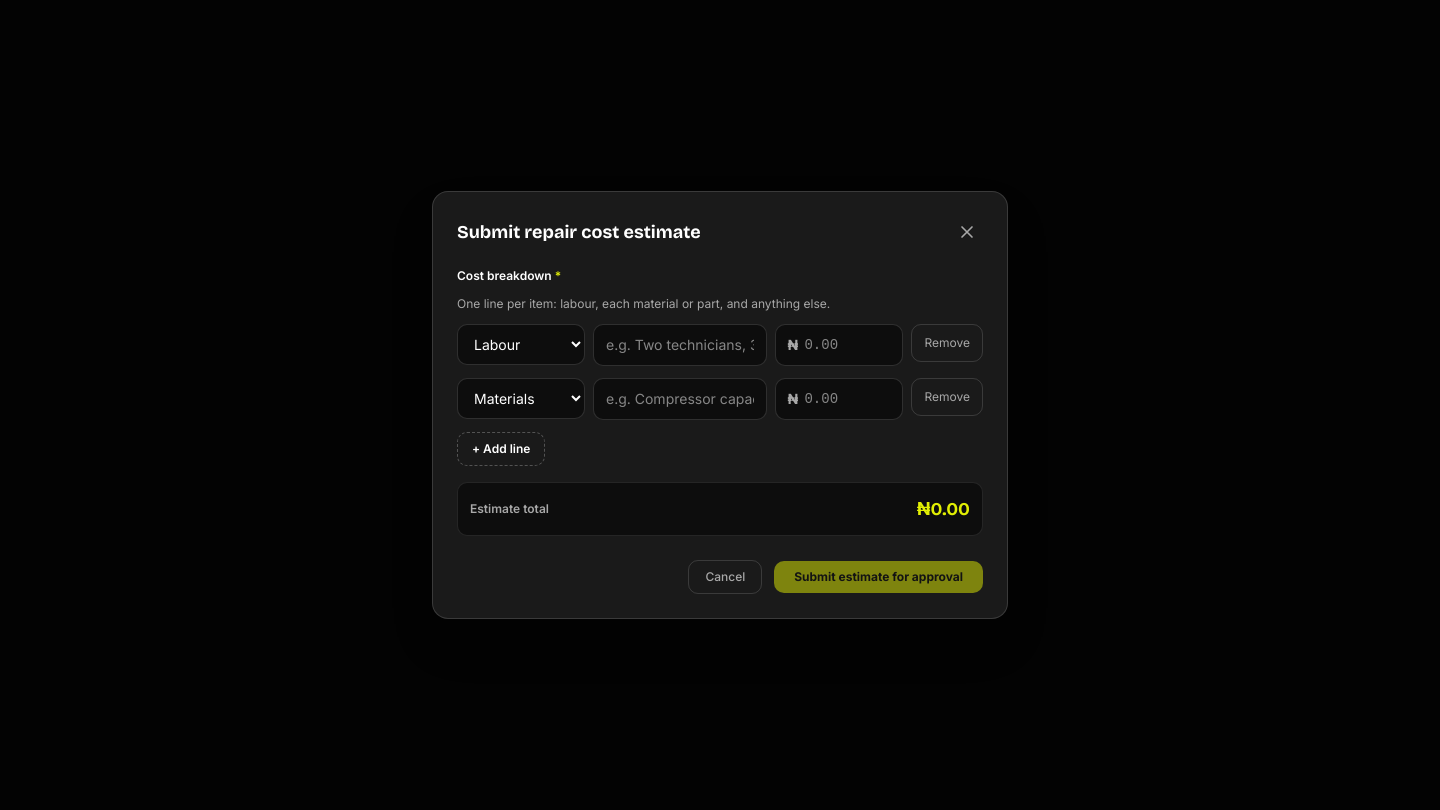
SubmitEstimateModal cost breakdown › lets lines be removed but always keeps one
Click the button with aria-label "Remove line 2".
click(947, 397)  # box [912,378,983,416]
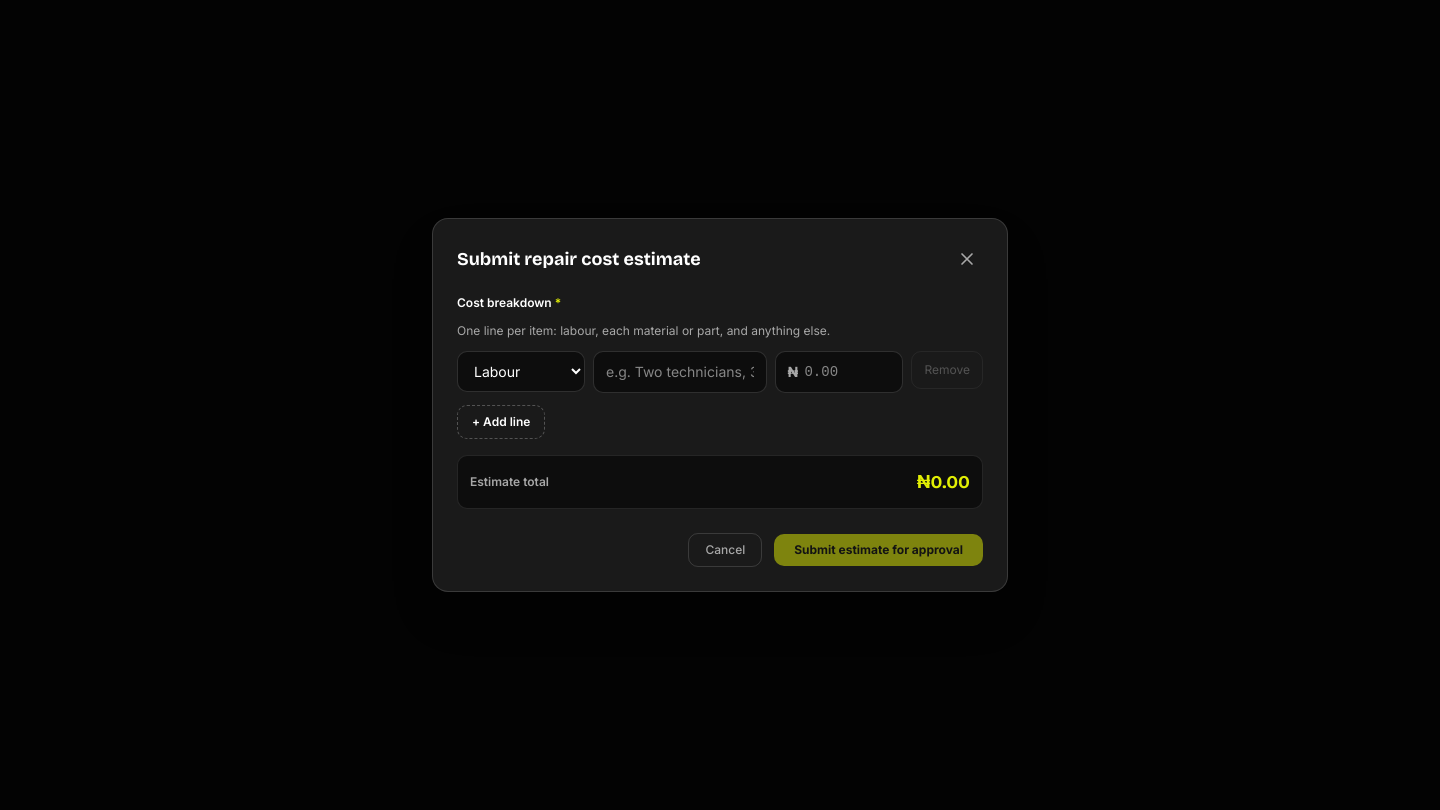
Now the button with aria-label "Remove line 1" is disabled, box [912,351,983,389]
